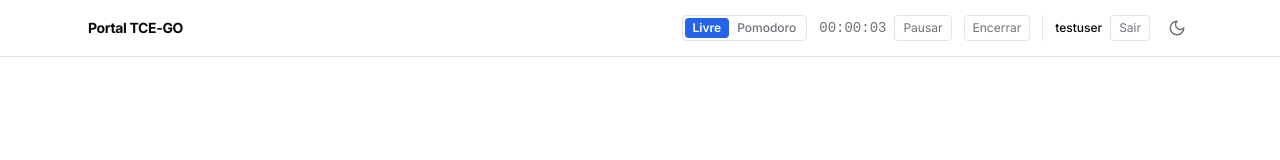
Test: Header Component › allows pausing and resuming free timer in Header @spec:AC-061
expect the text "00:00:03" is shown: met, box [819,18,886,38]
Click the button "Pausar" at (923, 28), box [894,15,952,41]
Wait 4000 ms
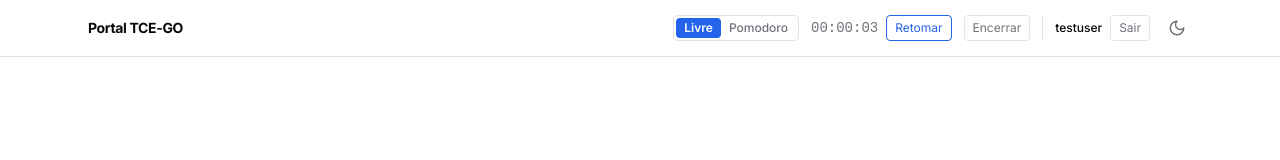
expect the text "00:00:03" is shown: met, box [811,18,878,38]
expect the button "Retomar" is shown: met
Click the button "Retomar" at (919, 28), box [886,15,952,41]
Wait 2000 ms
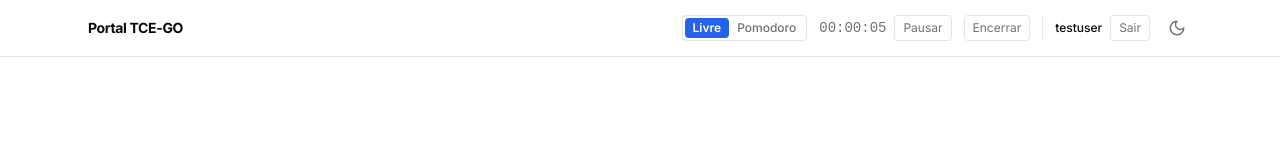
expect the text "00:00:05" is shown: met, box [819,18,886,38]
